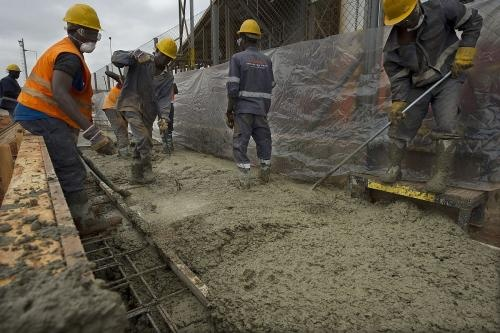yellow: (65, 5, 102, 54), (383, 1, 424, 30), (236, 19, 263, 49), (153, 38, 178, 68), (6, 62, 22, 80)
